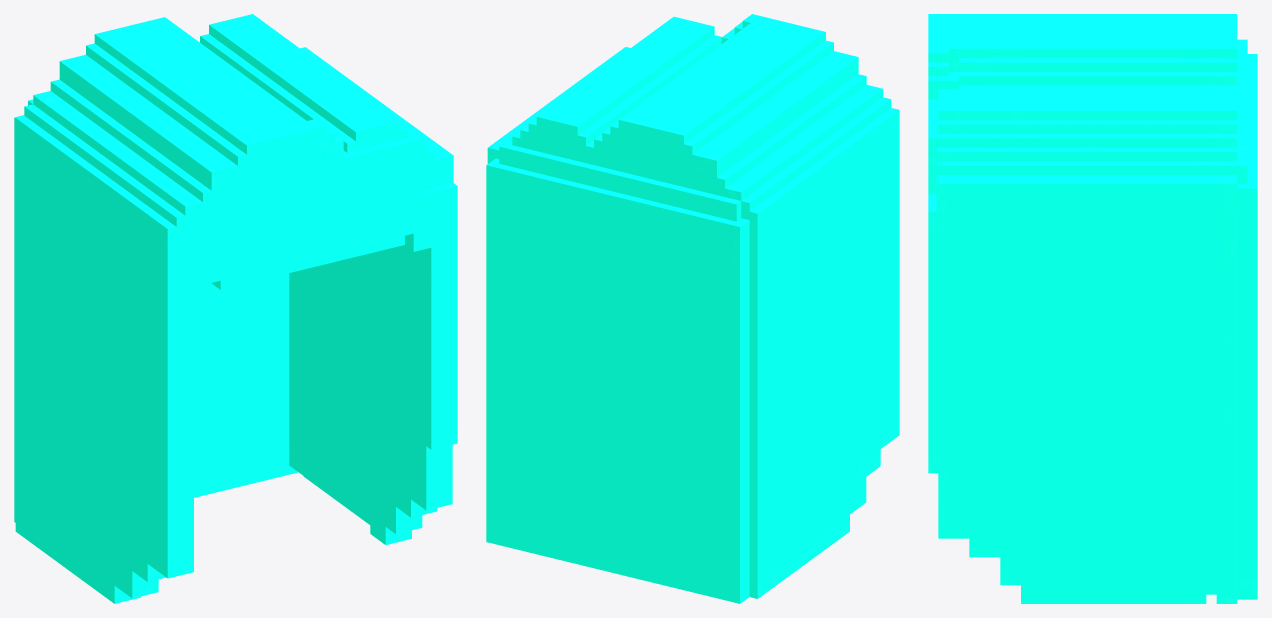
Rendered from long_teal.glb.
3 renders of one model, left to right at view 1: azimuth 30°, elevation 25°; view 2: azimuth 150°, elevation 25°; view 3: azimuth 270°, elevation 25°, orthographic. The views are drawn at different scales.
Parts seen in each view (by area): view 1: long_female_unwrpped.001; view 2: long_female_unwrpped.001; view 3: long_female_unwrpped.001.
Boxes of the visible parts, x1=… form: long_female_unwrpped.001: x1=14, y1=14, x2=457, y2=603; long_female_unwrpped.001: x1=486, y1=14, x2=899, y2=603; long_female_unwrpped.001: x1=928, y1=14, x2=1257, y2=603.
Bounding box in the file's own units: 3.3 × 5.2 × 3.2.
1 material, 1 textured.
